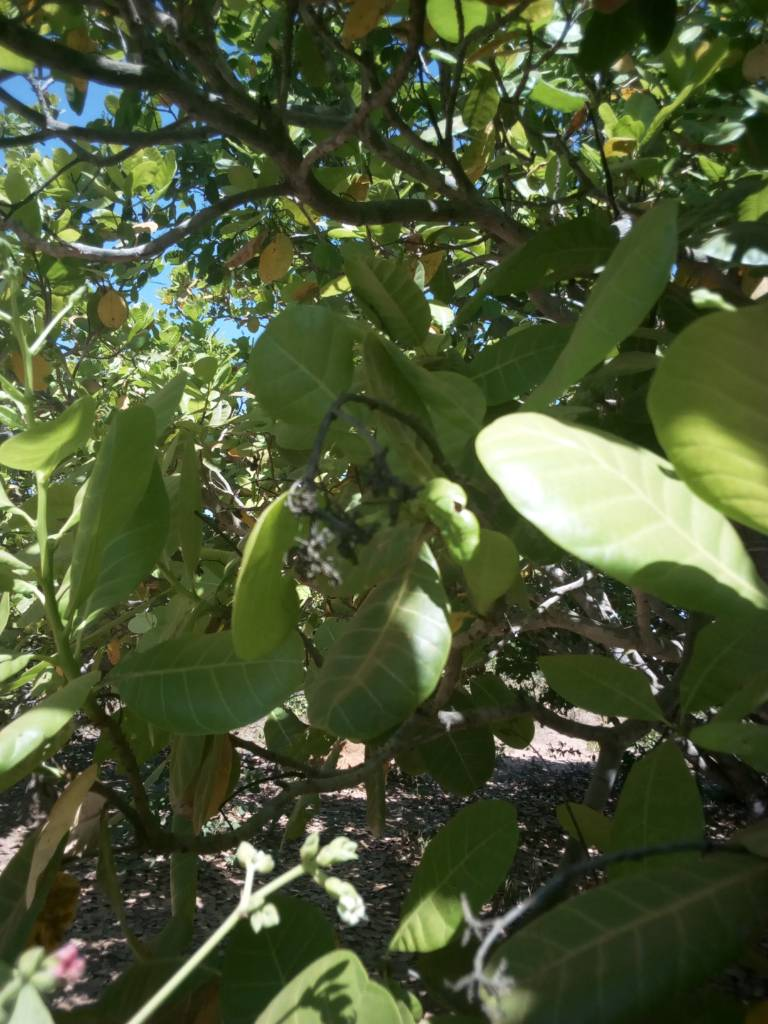Dessèchement des bourgeons: (449, 839, 716, 989), (291, 397, 402, 536)
